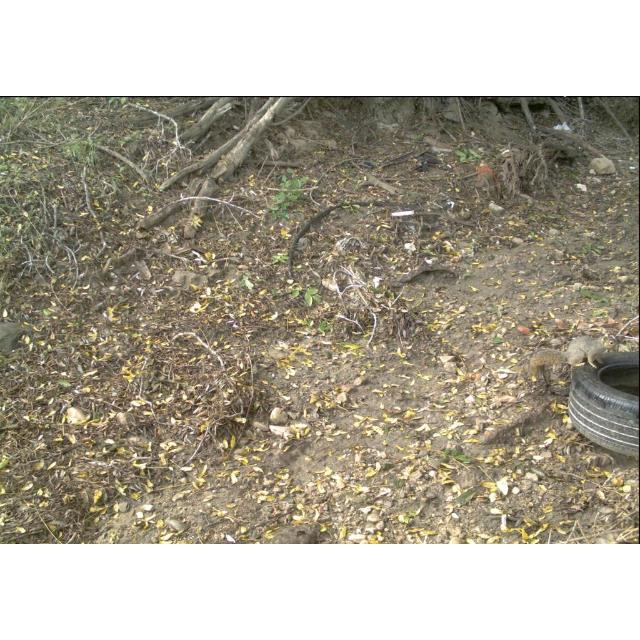animals: (528, 331, 618, 373)
